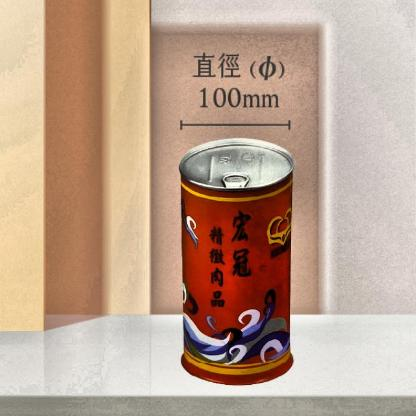Can: (176, 134, 298, 392)
